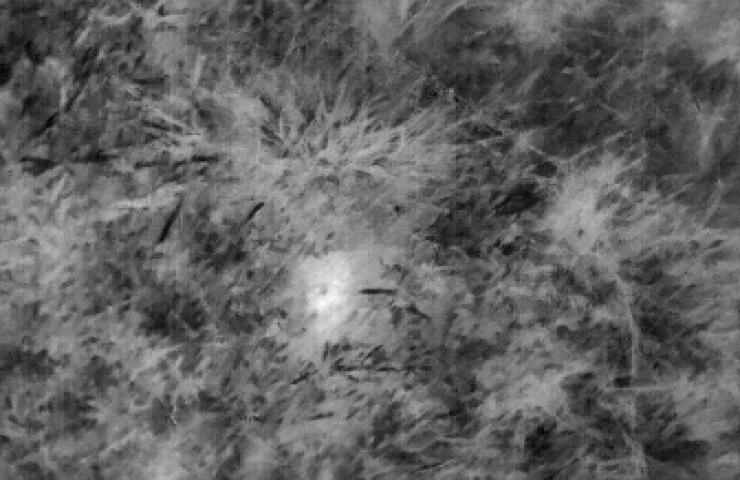landmines: (301, 259, 357, 312)
